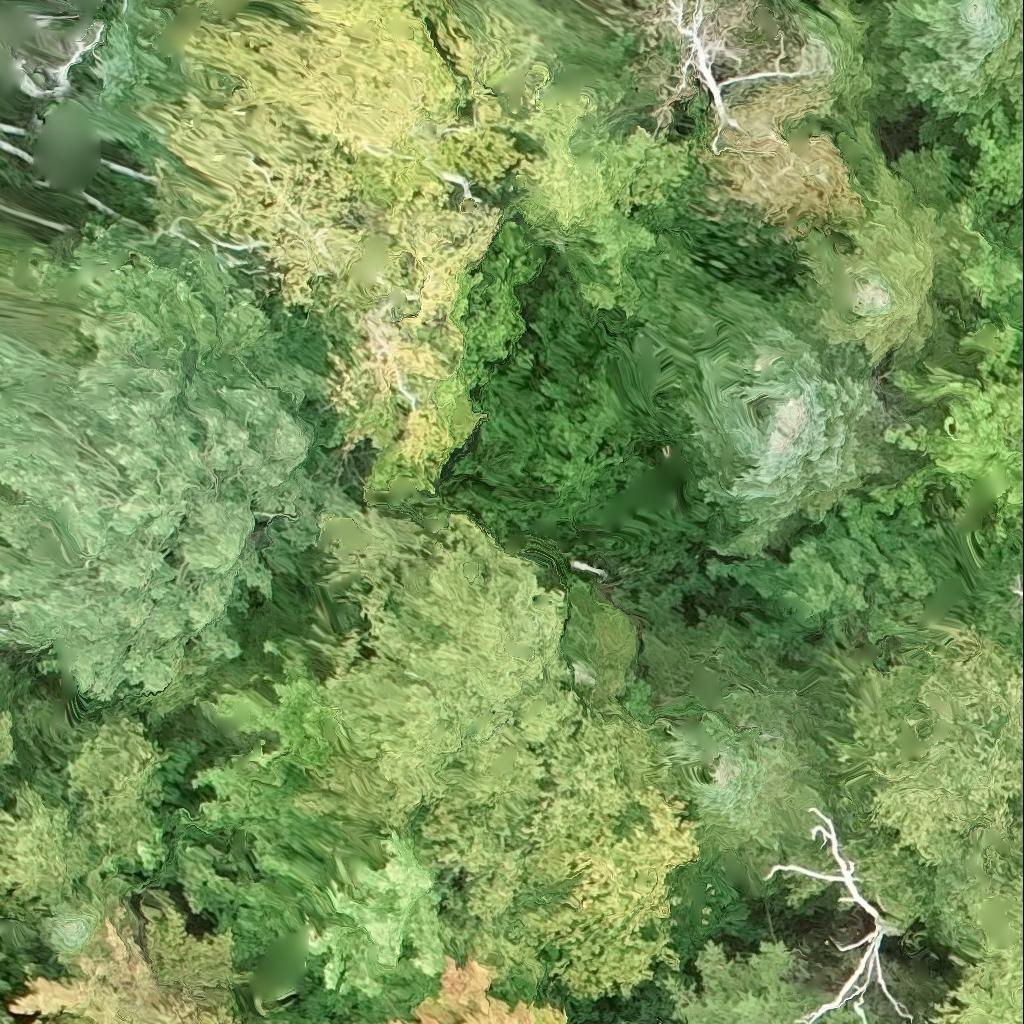crown: (662, 941, 880, 1023), (1000, 473, 1023, 529)
